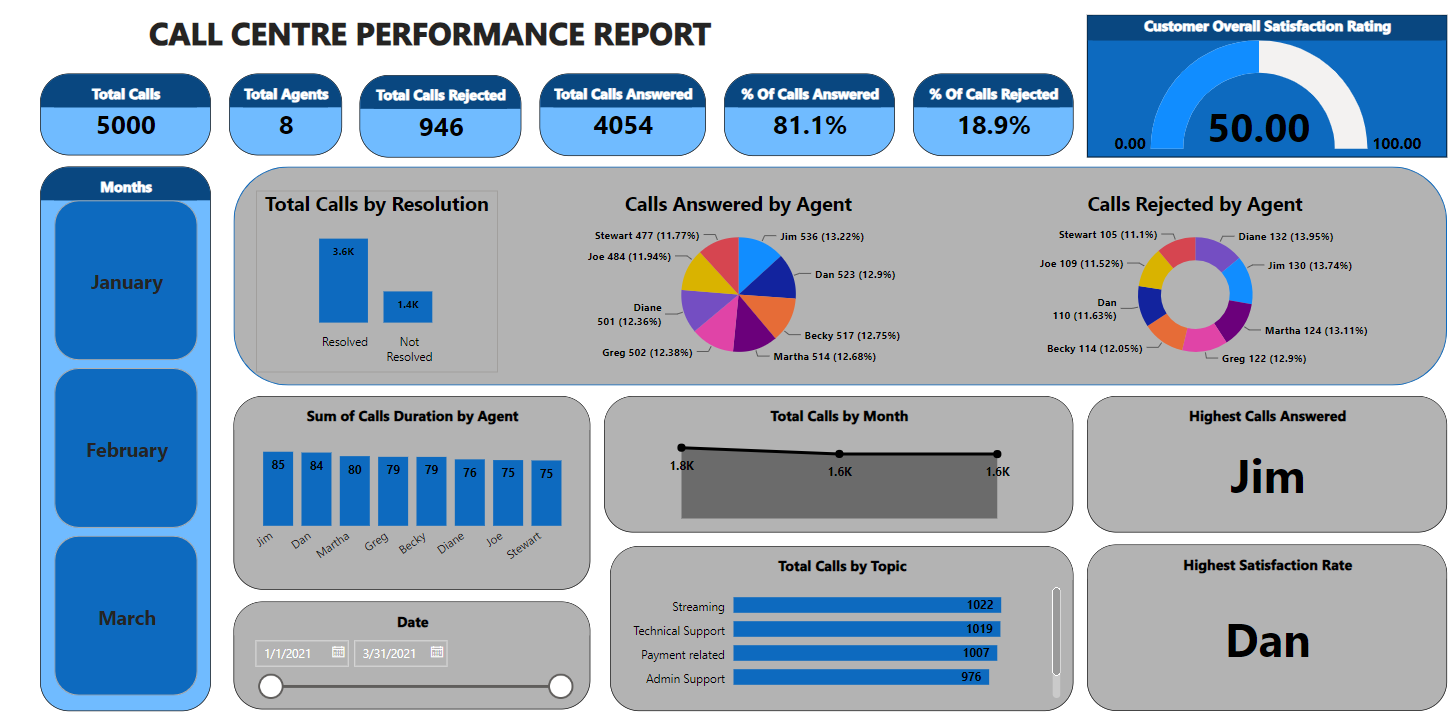

Layout of this report page (visuals, bound fields, positions):
{"tool":"powerbi","page":{"name":"Page 1","canvas":[1410,720],"ordinal":0},"visuals":[{"type":"card","title":"Total Calls","fields":{"Values":["performance.Total Calls"]},"box":[0,68.3,210,83.3],"z":0},{"type":"textbox","box":[150,420,300,300],"z":1000},{"type":"card","title":"Total Agents","fields":{"Values":["performance.Agent"]},"box":[210,68.3,195,83.3],"z":2000},{"type":"card","title":"Total Calls Answered","fields":{"Values":["performance.Calls Answered"]},"box":[668.3,68.3,256.7,83.3],"z":3000},{"type":"card","title":"Total Calls Rejected","fields":{"Values":["performance.Calls Rejected"]},"box":[405,68.3,263.3,83.3],"z":4000},{"type":"card","title":"% Of Calls Answered","fields":{"Values":["performance.% Of Calls Answered"]},"box":[925,68.3,238.3,83.3],"z":5000},{"type":"card","title":"% Of Calls Rejected","fields":{"Values":["performance.% Of Calls Rejected"]},"box":[1163.3,68.3,246.7,83.3],"z":6000},{"type":"columnChart","fields":{"Y":["performance.Total Calls"],"Category":["performance.Resolution"]},"box":[190.8,163.1,201.5,224.6],"z":7000},{"type":"card","title":"Highest Calls Answered","fields":{"Values":["performance.Agent"]},"box":[1073.8,398.5,336.9,140],"z":8000},{"type":"card","title":"AVG Satisfaction Rate","fields":{"Values":["performance.Agent"]},"box":[1073.8,549.2,336.9,170.8],"z":9000},{"type":"barChart","fields":{"Category":["performance.Topic"],"Y":["performance.Total Calls"]},"box":[578.5,550.8,481.5,169.2],"z":10000},{"type":"columnChart","fields":{"Category":["performance.Agent"],"Y":["performance.Calls Duration"]},"box":[190.8,398.5,373.8,198.5],"z":11000},{"type":"areaChart","fields":{"Y":["performance.Total Calls"],"Category":["performance.Date.Variation.Date Hierarchy.Month"]},"box":[578.5,398.5,481.5,140],"z":12000},{"type":"advancedSlicerVisual","title":"Months","fields":{"Values":["performance.Date.Variation.Date Hierarchy.Month"]},"box":[0,152.3,175.4,567.7],"z":13000},{"type":"pieChart","title":"Calls Answered by Agent","fields":{"Y":["performance.Total Calls Answered"],"Category":["performance.Agent"]},"box":[404.6,163.1,495.4,224.6],"z":14000},{"type":"donutChart","title":"Calls Rejected by Agent","fields":{"Y":["performance.Total Calls Rejected"],"Category":["performance.Agent"]},"box":[910.8,163.1,500,224.6],"z":15000},{"type":"slicer","title":"Date","fields":{"Values":["performance.Date"]},"box":[174,608.3,390,111.7],"z":16000},{"type":"textbox","box":[0,6.2,1409.2,61.5],"z":17000}]}

Visuals, with their boxes in screenshot pixels (x1, y1, x2, y2):
"Total Calls" card: 34,71,240,152
textbox: 181,415,475,709
"Total Agents" card: 240,71,431,152
"Total Calls Answered" card: 689,71,940,152
"Total Calls Rejected" card: 431,71,689,152
"% Of Calls Answered" card: 940,71,1174,152
"% Of Calls Rejected" card: 1174,71,1415,152
columnChart - performance.Total Calls x performance.Resolution: 221,164,418,384
"Highest Calls Answered" card: 1086,394,1416,531
"AVG Satisfaction Rate" card: 1086,542,1416,709
barChart - performance.Topic x performance.Total Calls: 601,543,1072,709
columnChart - performance.Agent x performance.Calls Duration: 221,394,587,589
areaChart - performance.Total Calls x performance.Date.Variation.Date Hierarchy.Month: 601,394,1072,531
"Months" advancedSlicerVisual: 34,153,206,709
"Calls Answered by Agent" pieChart: 430,164,916,384
"Calls Rejected by Agent" donutChart: 926,164,1416,384
"Date" slicer: 204,600,587,709
textbox: 34,10,1414,70
